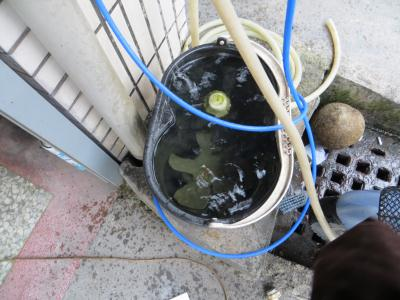bucket: (142, 41, 293, 232)
